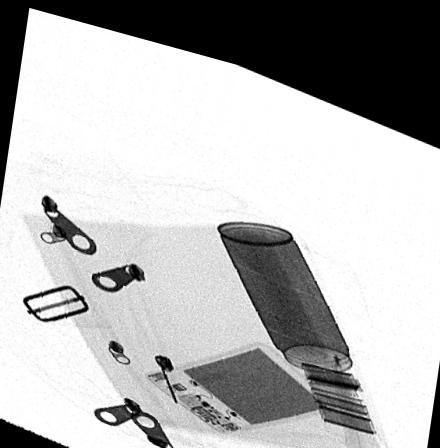Powerbank: (142, 328, 329, 424)
